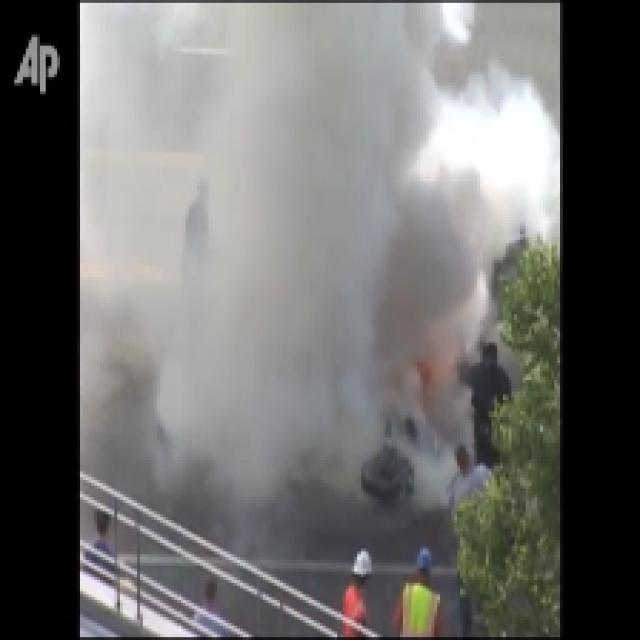Smoke: (202, 21, 443, 460)
